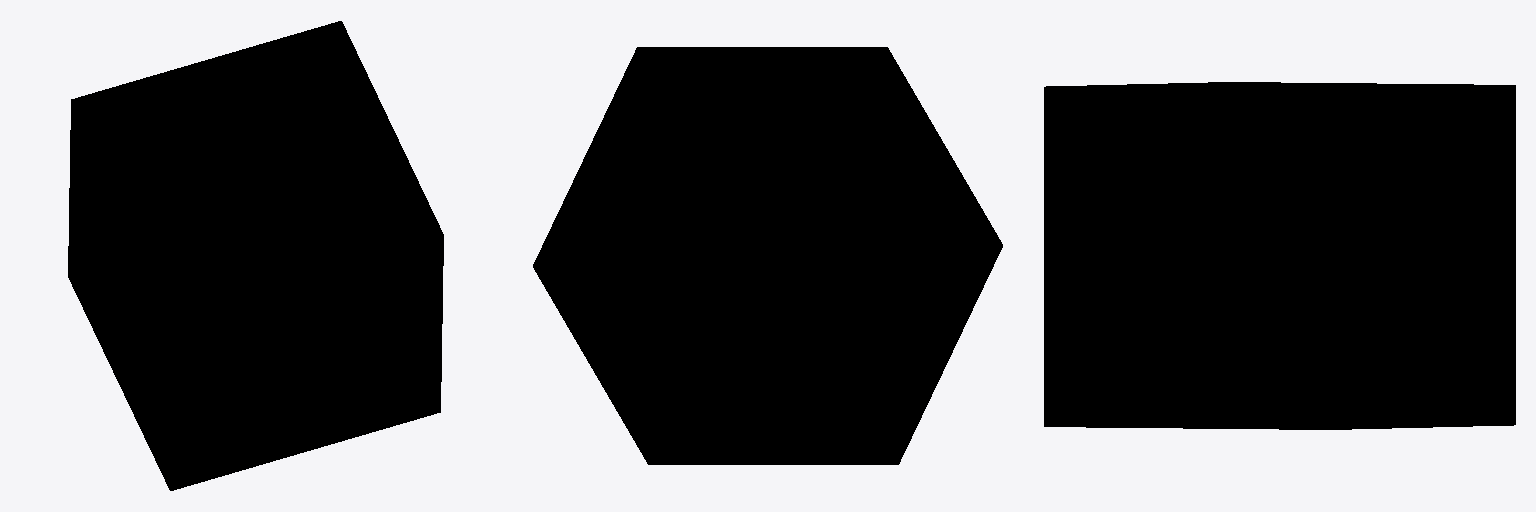
The robot description file, URDF, robot "anymal":
<?xml version="1.0" ?>
<!-- =================================================================================== -->
<!-- |    This document was autogenerated by xacro from [local-path]/catkin_ws/src/anymal_beth/anymal_beth_description/urdf/anymal_beth.urdf.xacro | -->
<!-- |    EDITING THIS FILE BY HAND IS NOT RECOMMENDED                                 | -->
<!-- =================================================================================== -->
<!--Copyright (C) 2015 by Dario Bellicoso                                    -->
<[email redacted]                                                 -->
<!--                                                                         -->
<!--This program is free software; you can redistribute it and/or modify     -->
<!--it under the terms of the Lesser GNU General Public License as published -->
<!--by the Free Software Foundation; either version 3 of the License, or     -->
<!--(at your option) any later version.                                      -->
<!--                                                                         -->
<!--This program is distributed in the hope that it will be useful,          -->
<!--but WITHOUT ANY WARRANTY; without even the implied warranty of           -->
<!--MERCHANTABILITY or FITNESS FOR A PARTICULAR PURPOSE. See the             -->
<!--Lesser GNU General Public License for more details.                      -->
<!--                                                                         -->
<!--You should have received a copy of the Lesser GNU General Public License -->
<!--along with this program. If not, see <http://www.gnu.org/licenses/>.     -->
<!-- This file contains the description of the ANYmal Beth robot. -->
<robot name="anymal" xmlns:xacro="http://www.ros.org/wiki/xacro">
    <material name="black">
        <color rgba="0.0 0.0 0.0 1.0"/>
    </material>
    <material name="blue">
        <color rgba="0.0 0.0 0.8 1.0"/>
    </material>
    <material name="green">
        <color rgba="0.0 0.8 0.0 1.0"/>
    </material>
    <material name="grey">
        <color rgba="0.2 0.2 0.2 1.0"/>
    </material>
    <material name="light_grey">
        <color rgba="0.4 0.4 0.4 1.0"/>
    </material>
    <material name="orange">
        <color rgba="1.0 0.423529411765 0.0392156862745 1.0"/>
    </material>
    <material name="brown">
        <color rgba="0.870588235294 0.811764705882 0.764705882353 1.0"/>
    </material>
    <material name="red">
        <color rgba="0.8 0.0 0.0 1.0"/>
    </material>
    <material name="white">
        <color rgba="1.0 1.0 1.0 1.0"/>
    </material>
    <!-- Material for the visual primitives -->
    <material name="anymal_material">
        <color rgba="0 0 0 0"/>
    </material>
    <!-- Xacro:Properties -->
    <!-- [m] -->
    <!-- Base link -->
    <link name="base">
        <visual>
            <origin rpy="10 20 0" xyz="0 0 0"/>
            <geometry>
                <box size="0.5 0.5 0.5"/>
            </geometry>
            <material name="anymal_material"/>
        </visual>
        <collision>
            <!-- Main Body -->
            <origin rpy="10 20 0" xyz="0 0 0"/>
            <geometry>
                <box size="0.5 0.5 0.5"/>
            </geometry>
        </collision>
        <inertial>
            <origin rpy="10 20 0" xyz="0 0 0"/>
            <mass value="21.39"/>
            <inertia ixx="0.268388530624" ixy="0.000775392455422" ixz="-0.0151848534451" iyy="0.884235660795" iyz="-0.000989297489507" izz="0.829158678306"/>
        </inertial>
    </link>
</robot>

--- What the picture shows (computed from the rendered views, not written in the file) ---
Views: 3 orthographic renders of the robot side by side, from view 1: azimuth 30°, elevation 25°; view 2: azimuth 150°, elevation 25°; view 3: azimuth 270°, elevation 25°.
Model anymal with 1 links and 0 joints (none), rooted at base, posed every joint at zero.
Visible links, largest first — view 1: base; view 2: base; view 3: base.
Link boxes in pixels (x1,y1,x2,y2): base: (68,21,443,490); base: (533,47,1002,464); base: (1044,82,1515,429).
Size in the robot's own frame: 0.8354 by 0.6915 by 0.7387 metres.
Geometry: primitives only (box / cylinder / sphere), no mesh files.
